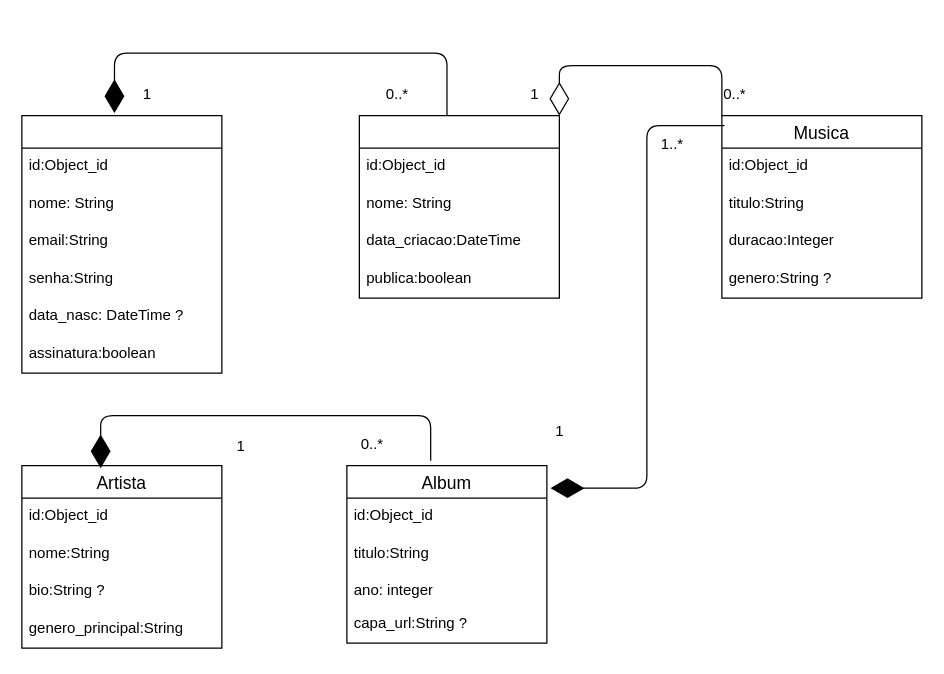
Some shapes in this 944 by 674 pixel diagram are drawn without their labels. The shapes that lost their labels are listed below. From the top down, each one's box as (x1, y1, x2, y2) in pixels, then its label:
(358, 114, 559, 298): Playlist
(21, 114, 222, 373): Usuario
